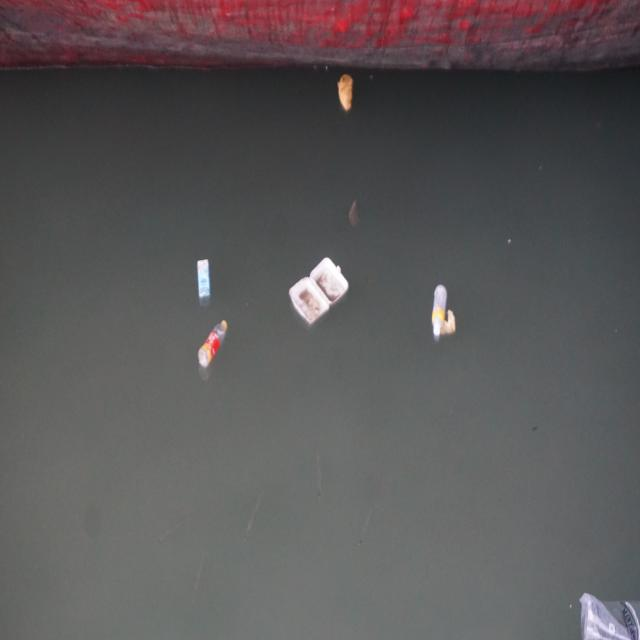Botol Plastik: (198, 318, 229, 372), (430, 280, 451, 344)
Bungkus Makanan: (287, 252, 352, 329)
Kantong Plastik: (577, 581, 640, 640)
